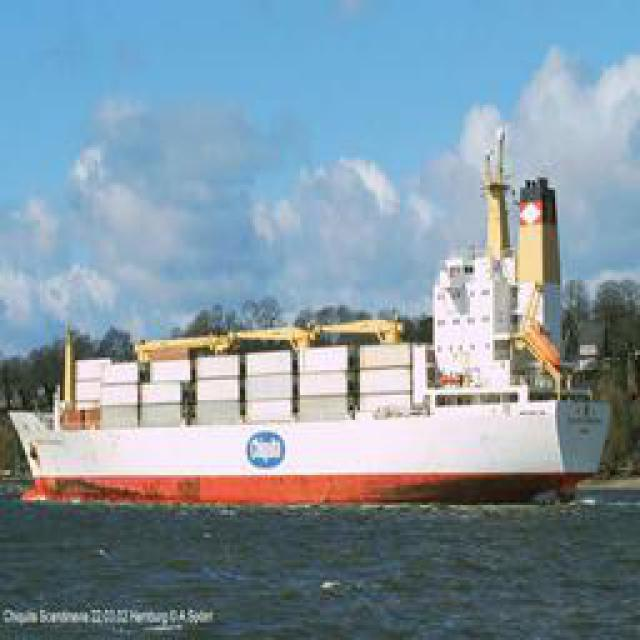Ship: (10, 167, 612, 508)
